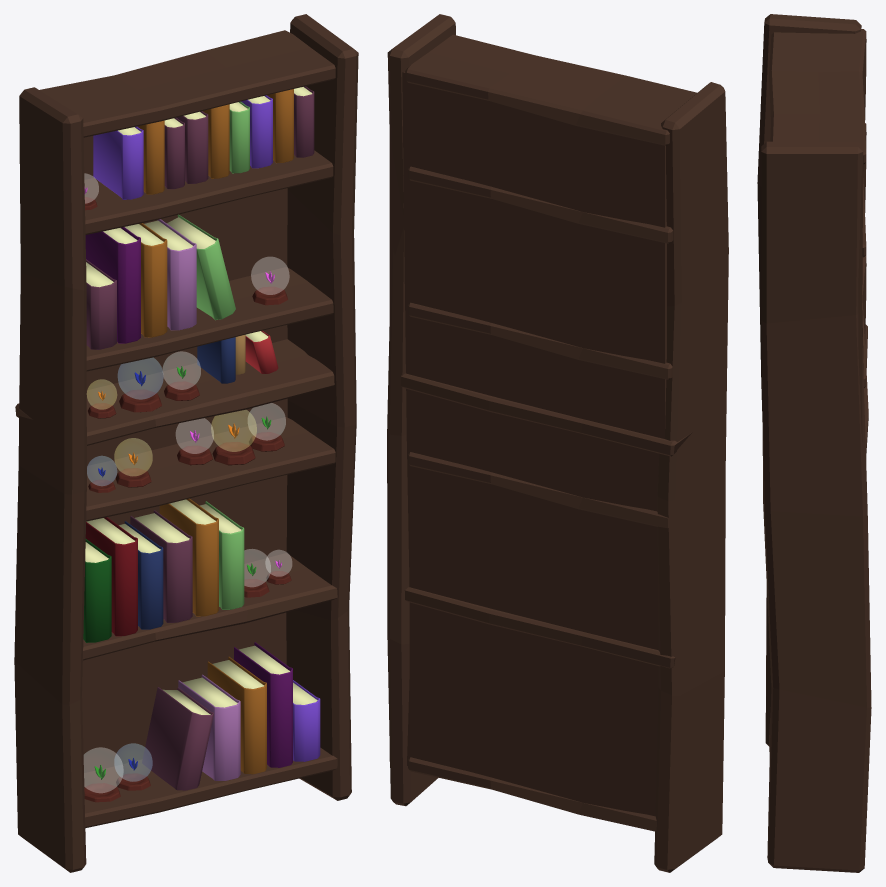
The model's file is bookshelf1.fbx.
The picture shows the model from 3 angles, left to right: view 1: azimuth 30°, elevation 25°; view 2: azimuth 150°, elevation 25°; view 3: azimuth 270°, elevation 25°; orthographic projection. The views are drawn at different scales.
Parts seen in each view (by area): view 1: Book.311; view 2: Book.311; view 3: Book.311.
Part boxes in pixels (x1,y1,x2,y2): Book.311: (14, 14, 358, 872); Book.311: (387, 14, 728, 872); Book.311: (757, 14, 871, 872).
Size of the model in its own units: 242 by 594 by 84.33.
